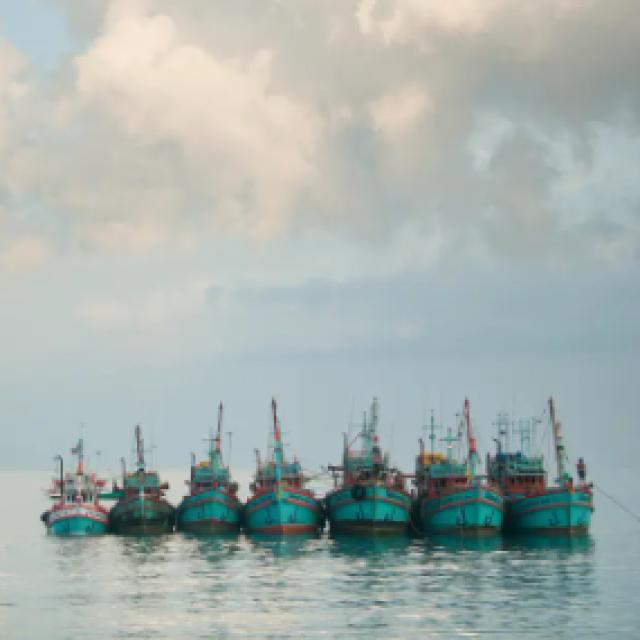fishing boat: (490, 400, 600, 535), (410, 391, 513, 531), (240, 398, 326, 540), (324, 395, 411, 531), (174, 401, 248, 534), (108, 417, 172, 538), (41, 432, 107, 538)
